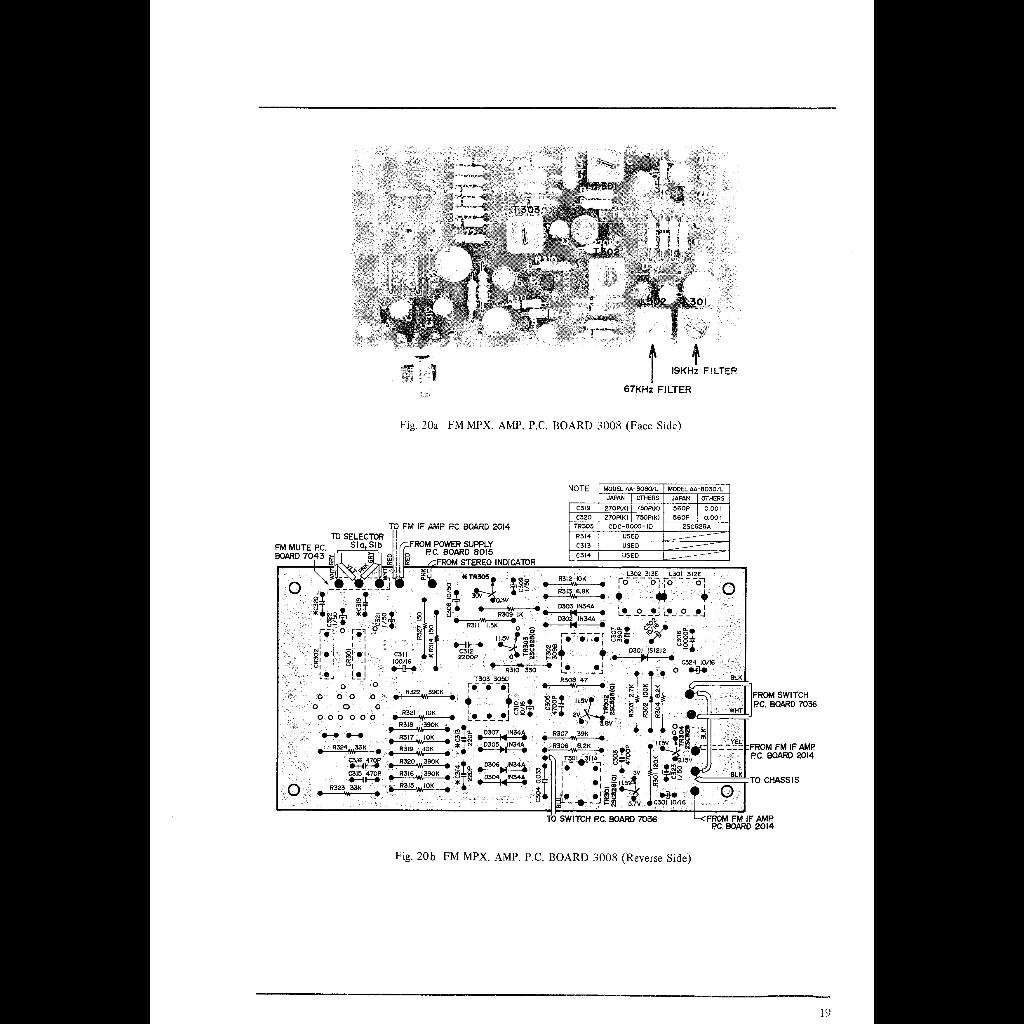Board: (266, 470, 828, 882), (348, 138, 760, 448)
